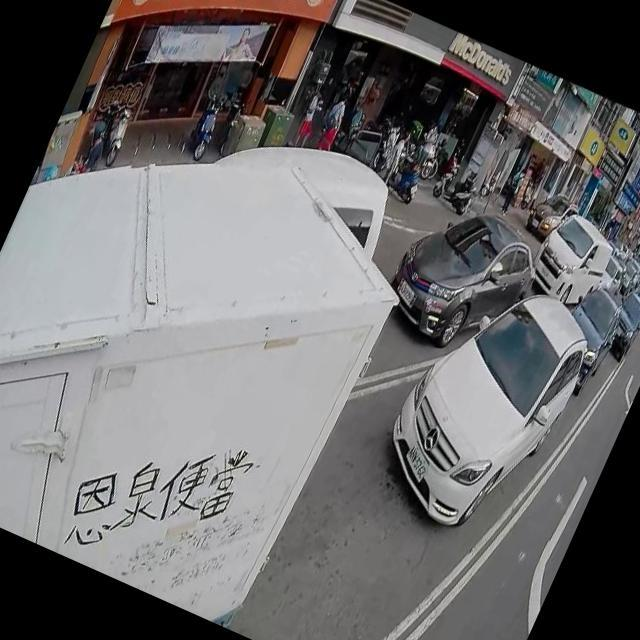person: (375, 126, 417, 192), (312, 90, 354, 156), (292, 81, 331, 150), (74, 117, 114, 175), (409, 119, 444, 176), (368, 122, 402, 174), (498, 163, 528, 215), (336, 76, 360, 108)
